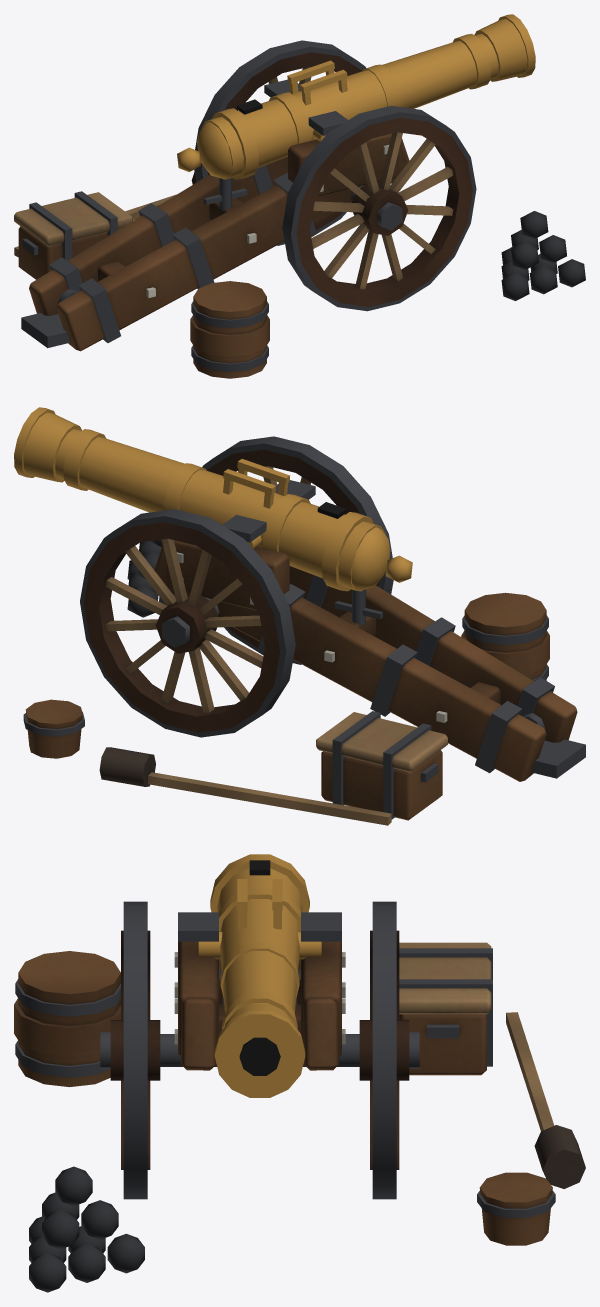
File: cannon.glb
The picture shows the model from 3 angles, top to bottom: view 1: azimuth 30°, elevation 25°; view 2: azimuth 150°, elevation 25°; view 3: azimuth 270°, elevation 25°; orthographic projection. The views are drawn at different scales.
Visible parts, largest first — view 1: cheek; view 2: cheek; view 3: cheek.
Part boxes in pixels (x1,y1,x2,y2): cheek: (14,14,585,378); cheek: (14,407,585,825); cheek: (14,854,585,1292).
Bounding box in the file's own units: 0.5373 × 0.221 × 0.3906.
4 materials, 1 textured.
